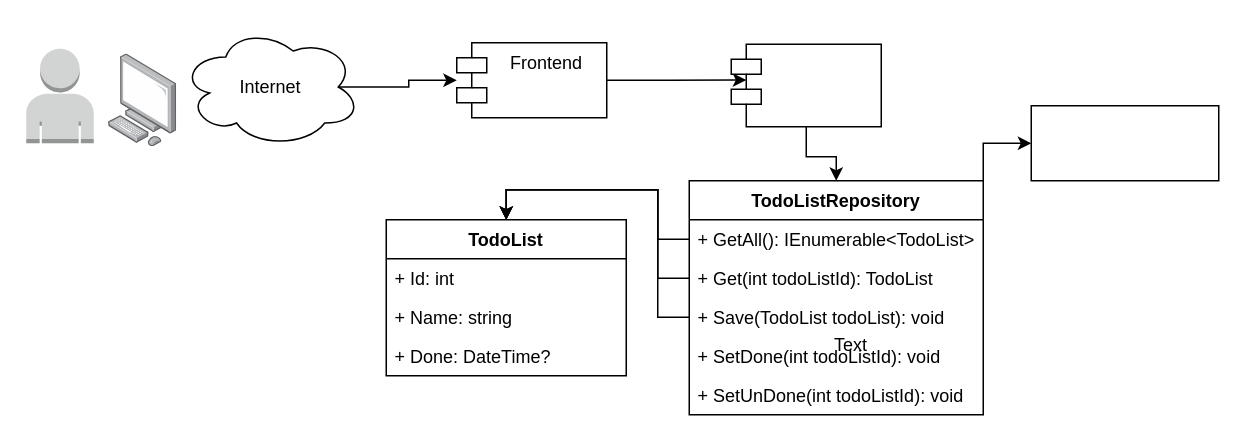
The diagram is 1245 pixels wide and 444 high, and some of its shapes have lost their labels. The shapes that lost their labels are listed below. From the top down, each one's centre as x and y in pixels, then its label:
the point at 805,85: Backend
the point at 1124,142: «interface» ITodoListRepository
